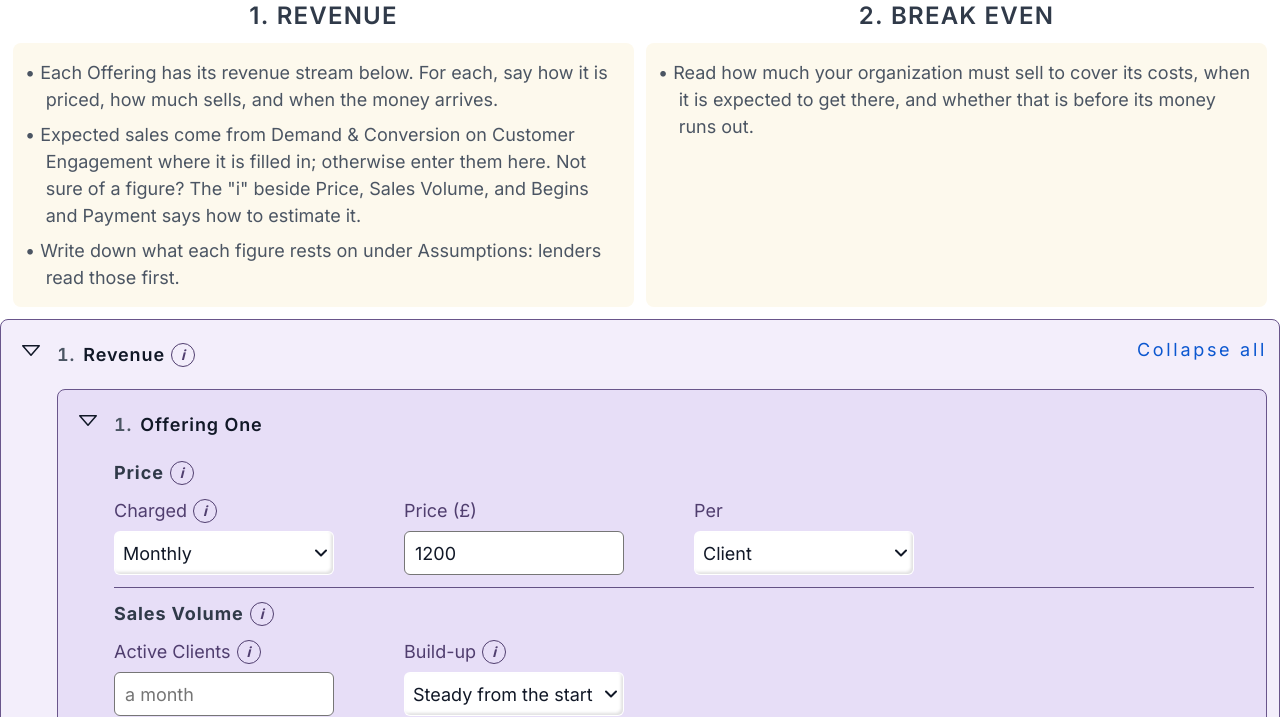
it: FinancialSustainabilityEditor folding › formats a folded stream's price as money and drops an empty unit
Click the 2nd button "▾" at x=88, y=420, box [70,402,106,438]
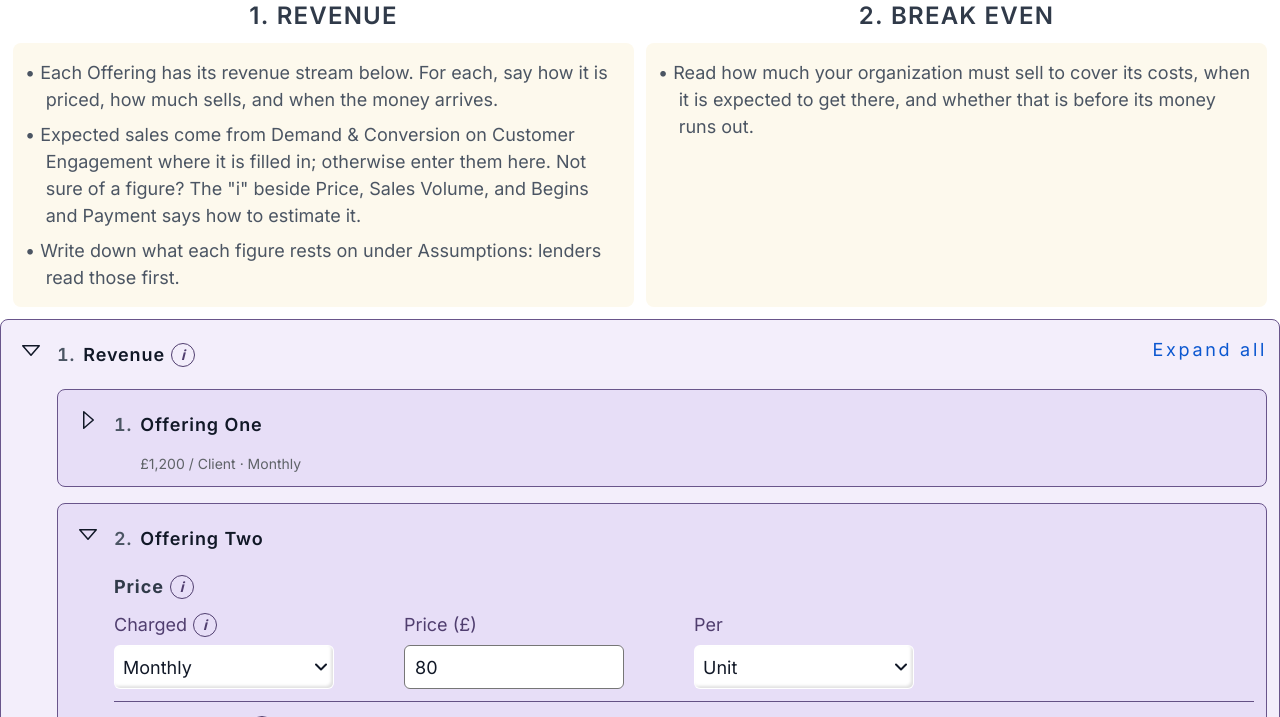
Click the button "▾" below "£1,200 / Client · Monthly" at x=88, y=534, box [70,516,106,552]
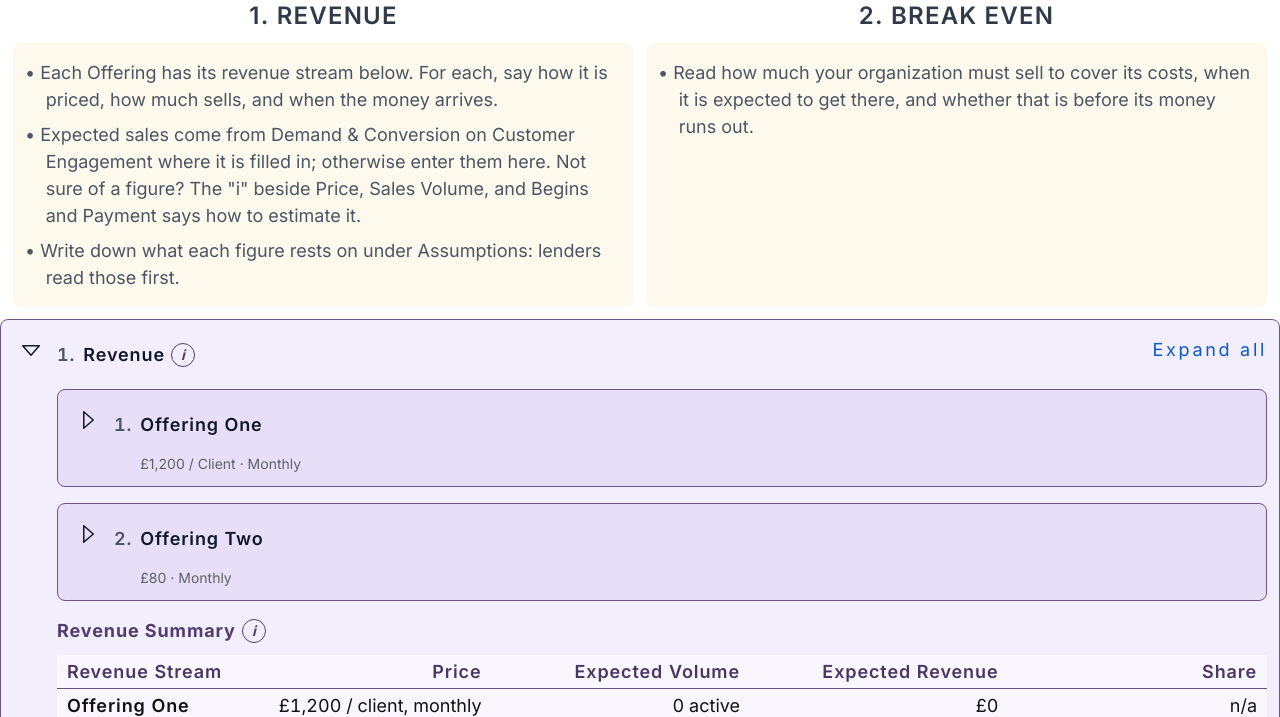
Result: the text "£1,200 / Client · Monthly" is shown at [140,455,301,472]
Result: the text "£80 · Monthly" is shown at [140,569,232,586]
